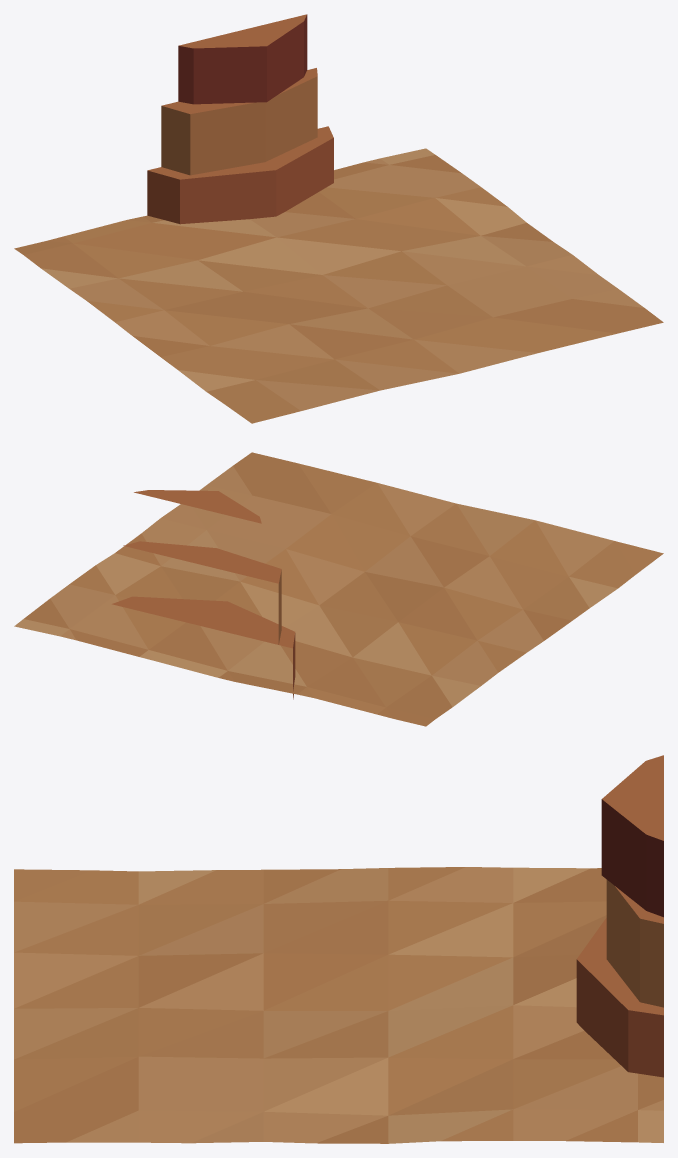
3 renders of one model, top to bottom at view 1: azimuth 30°, elevation 25°; view 2: azimuth 150°, elevation 25°; view 3: azimuth 270°, elevation 25°, orthographic. The views are drawn at different scales.
Visible parts, largest first — view 1: baked; view 2: baked; view 3: baked.
Boxes of the visible parts, x1,y1,x2,y2 form: baked: (14, 14, 663, 423); baked: (14, 452, 663, 726); baked: (14, 755, 663, 1143).
Bounding box in the file's own units: 62.5 × 24.69 × 62.5.
